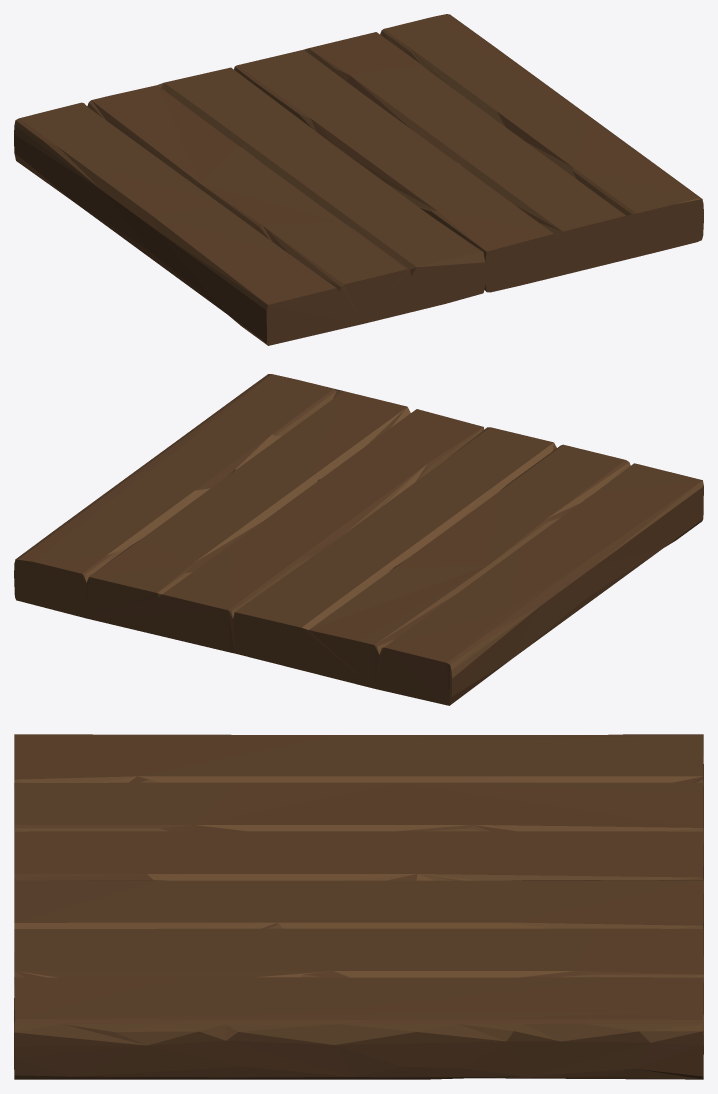
Rendered from platform-1.glb.
3 views of the same model, one above another, from view 1: azimuth 30°, elevation 25°; view 2: azimuth 150°, elevation 25°; view 3: azimuth 270°, elevation 25° (orthographic). The views are drawn at different scales.
Visible parts, largest first — view 1: output_unwrapped; view 2: output_unwrapped; view 3: output_unwrapped.
Boxes of the visible parts, x1=… form: output_unwrapped: x1=14, y1=14, x2=703, y2=345; output_unwrapped: x1=14, y1=374, x2=703, y2=705; output_unwrapped: x1=14, y1=734, x2=703, y2=1079.
Size of the model in its own units: 3 by 0.2885 by 3.
